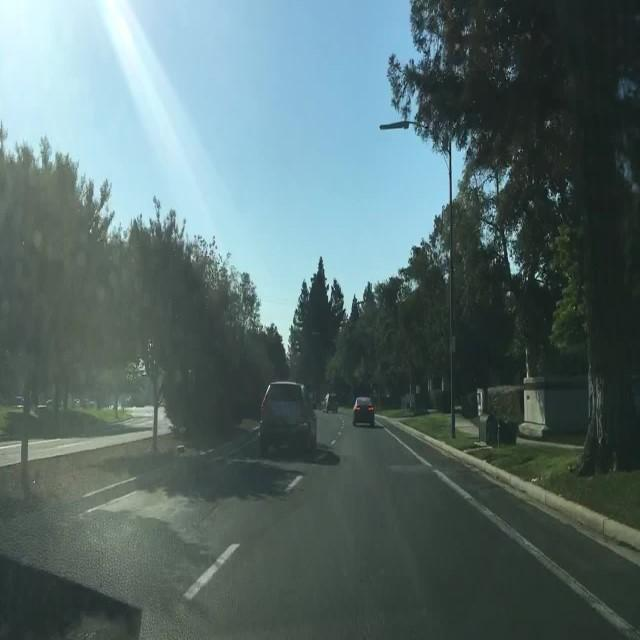normal: (232, 358, 401, 467)
